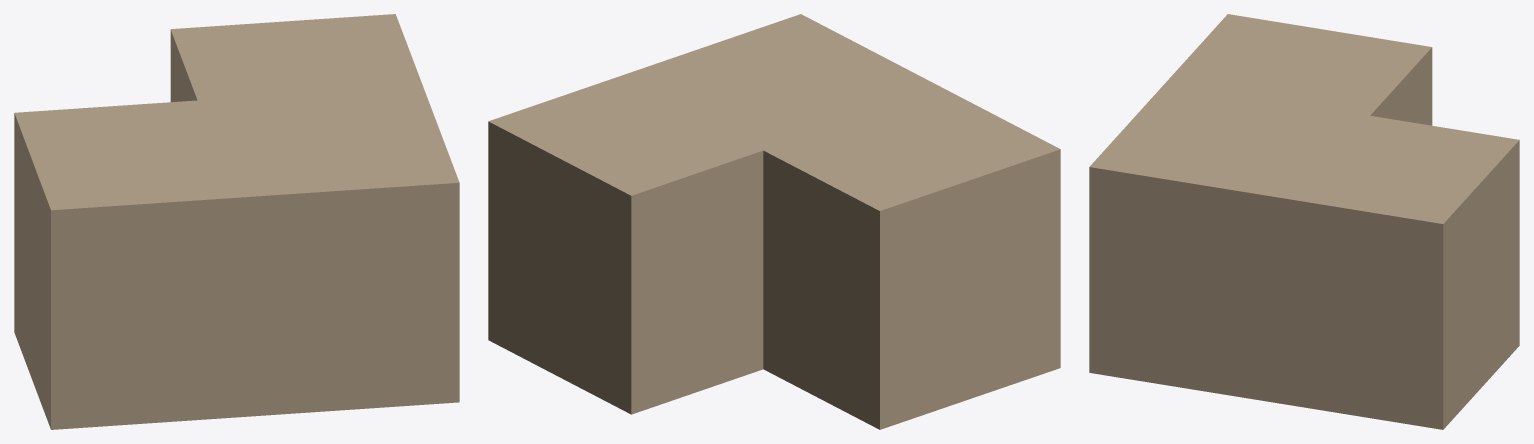
File: bld_353211804.dae
3 renders of one model, left to right at view 1: azimuth 30°, elevation 25°; view 2: azimuth 150°, elevation 25°; view 3: azimuth 270°, elevation 25°, orthographic. The views are drawn at different scales.
Parts seen in each view (by area): view 1: bld_353211804; view 2: bld_353211804; view 3: bld_353211804.
Part boxes in pixels (<box>): bld_353211804: <box>14,14,459,429</box>; bld_353211804: <box>488,14,1060,429</box>; bld_353211804: <box>1089,14,1519,429</box>.
Size of the model in its own units: 17.52 by 15.16 by 8.
